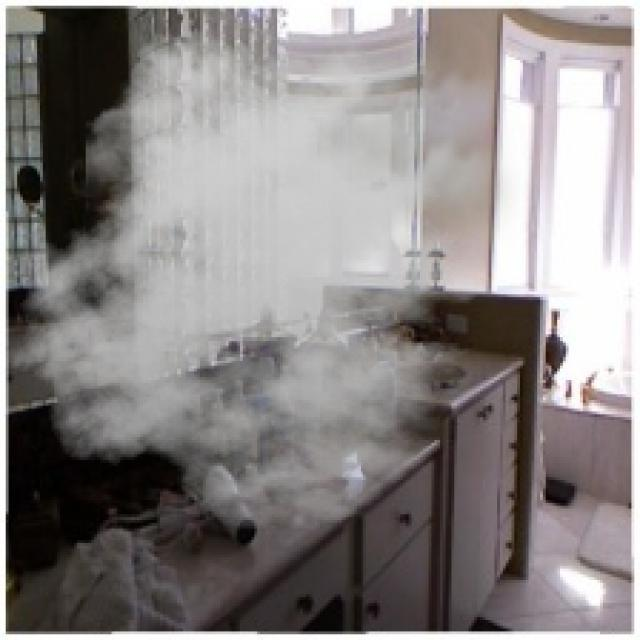Smoke: (6, 14, 526, 532)
